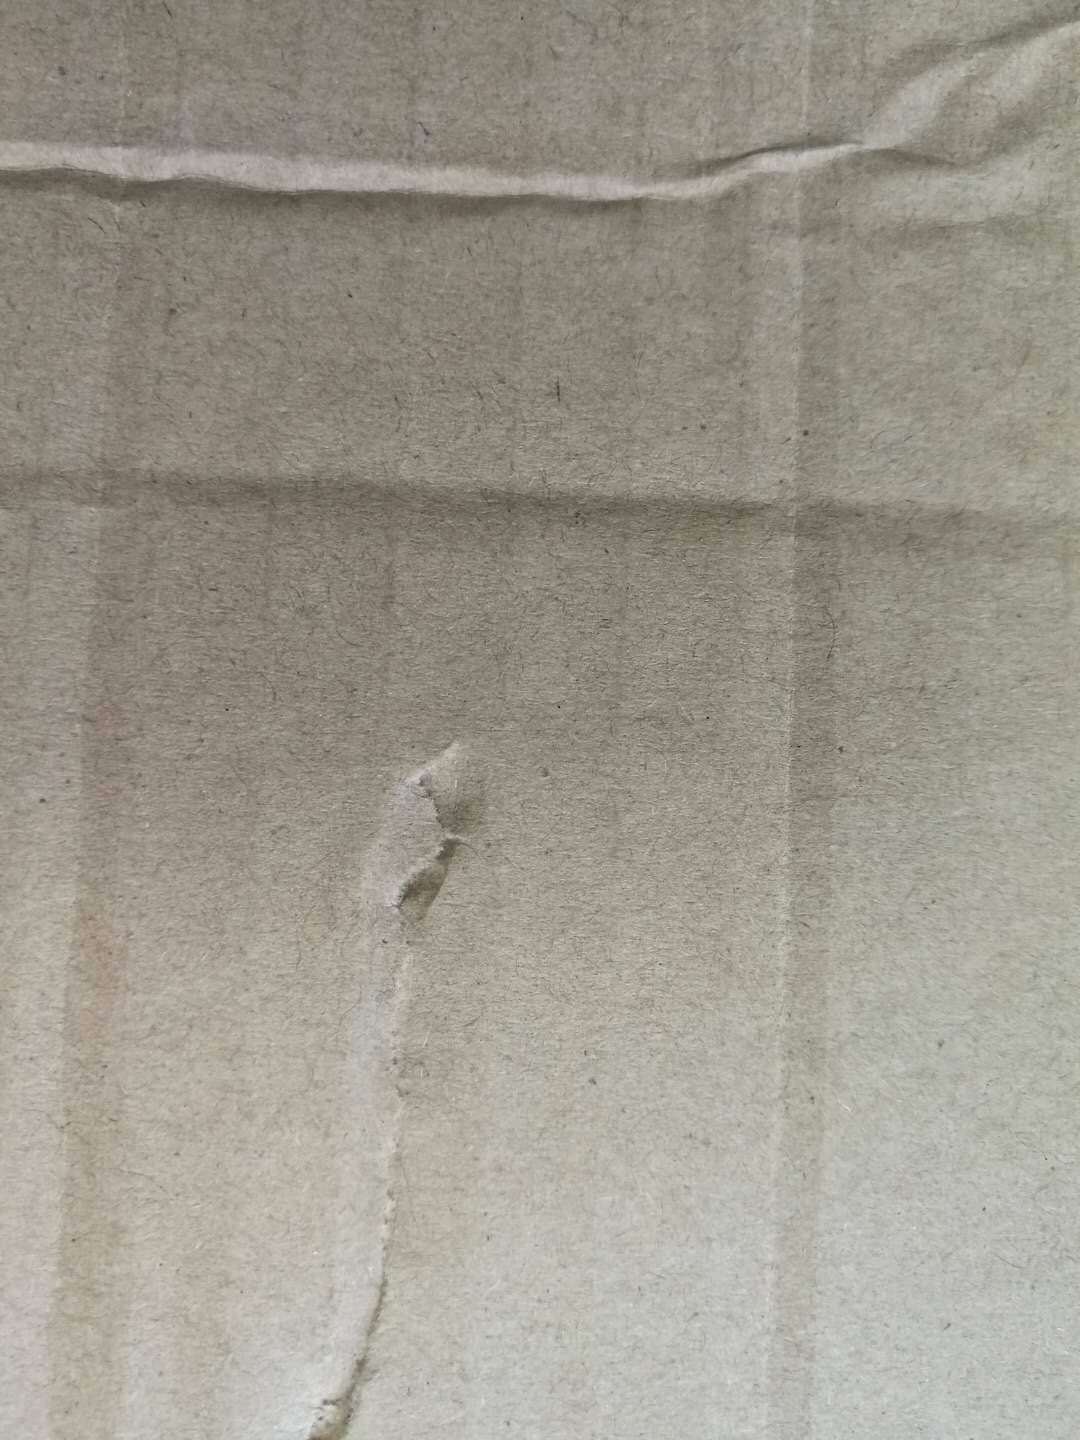defect: (700, 2, 940, 1439), (3, 1, 1080, 287), (1, 408, 1080, 615), (32, 39, 185, 1425), (275, 710, 535, 1440)
